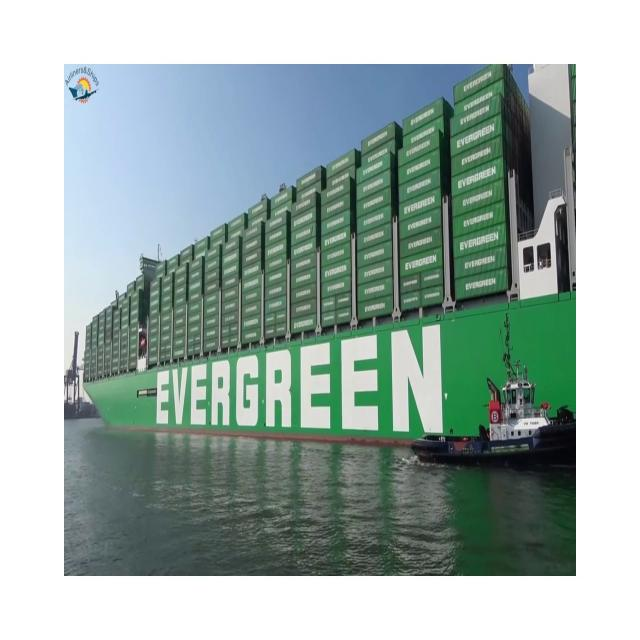OCR: (136, 325, 461, 457)
